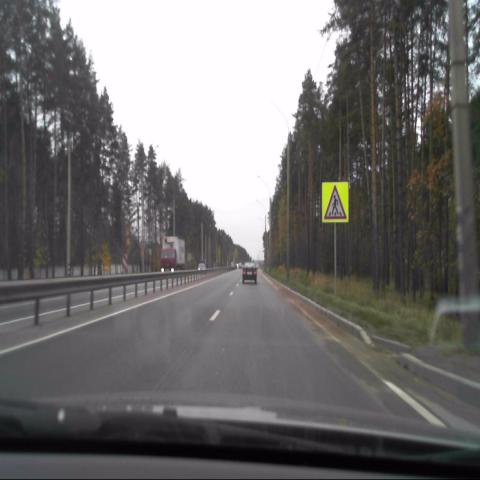1_22: (320, 182, 349, 223)
